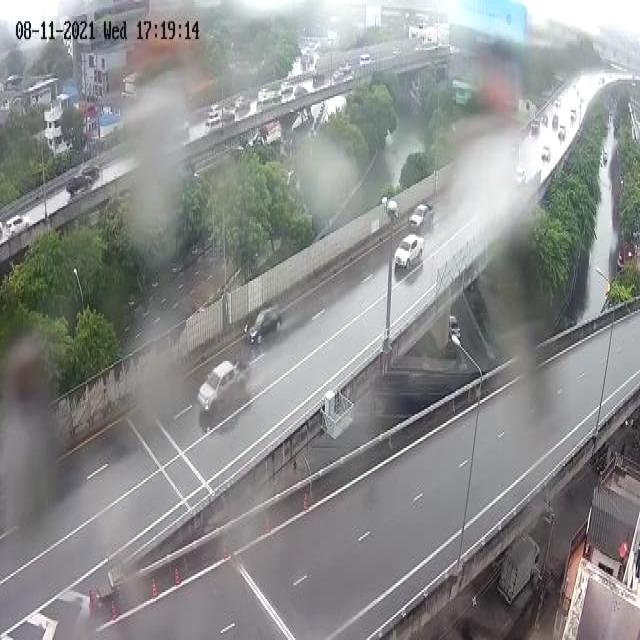Car: (242, 304, 282, 348), (394, 234, 426, 273), (5, 212, 31, 240), (66, 173, 92, 198), (447, 314, 462, 344), (234, 93, 251, 111), (540, 143, 552, 162), (557, 124, 568, 144), (569, 107, 577, 121)
Truck: (197, 356, 252, 416), (408, 199, 436, 237)
